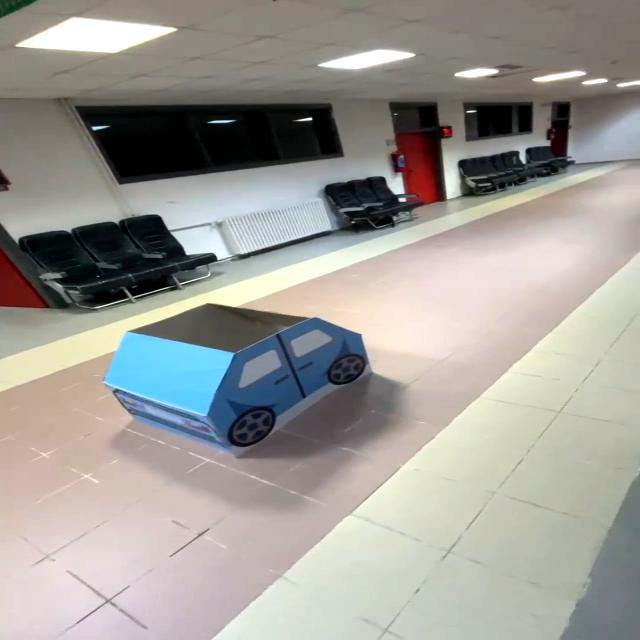blue_car: (100, 293, 393, 478)
